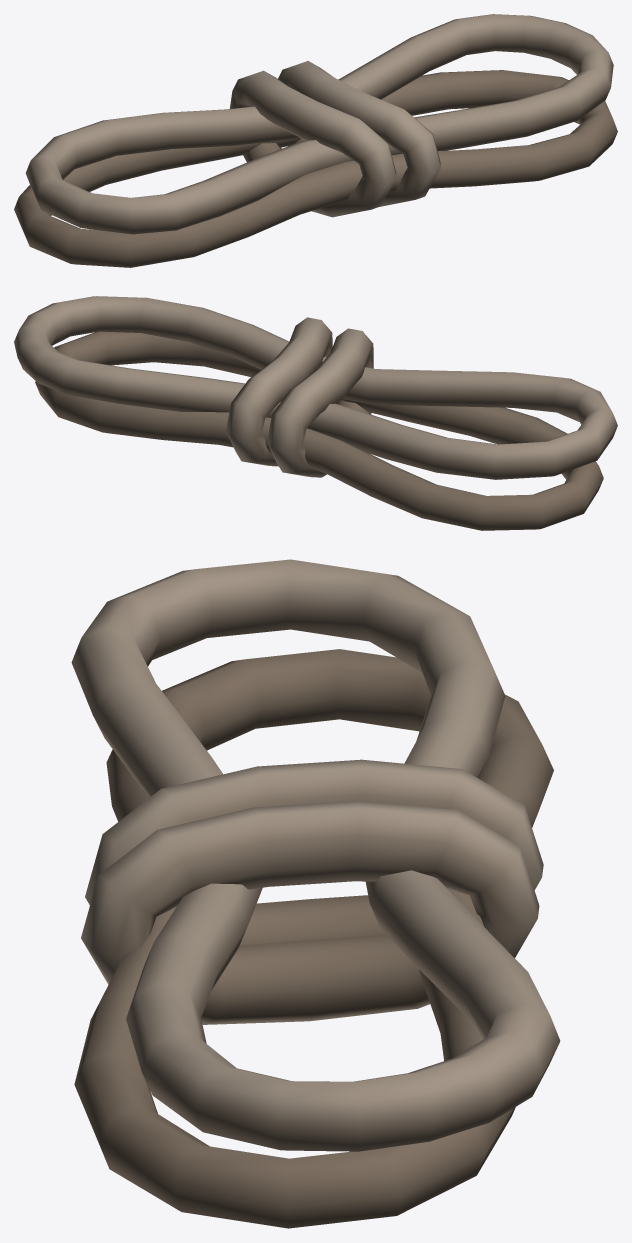
File: KT_rope_bundle_A.glb
3 views of the same model, one above another, from view 1: azimuth 30°, elevation 25°; view 2: azimuth 150°, elevation 25°; view 3: azimuth 270°, elevation 25° (orthographic). The views are drawn at different scales.
Visible parts, largest first — view 1: rope_bundle_A; view 2: rope_bundle_A; view 3: rope_bundle_A.
Part boxes in pixels (x1=…): rope_bundle_A: x1=14, y1=14, x2=617, y2=267; rope_bundle_A: x1=14, y1=296, x2=617, y2=530; rope_bundle_A: x1=71, y1=559, x2=560, y2=1228.
Size of the model in its own units: 1.39 by 0.2519 by 0.5269.
